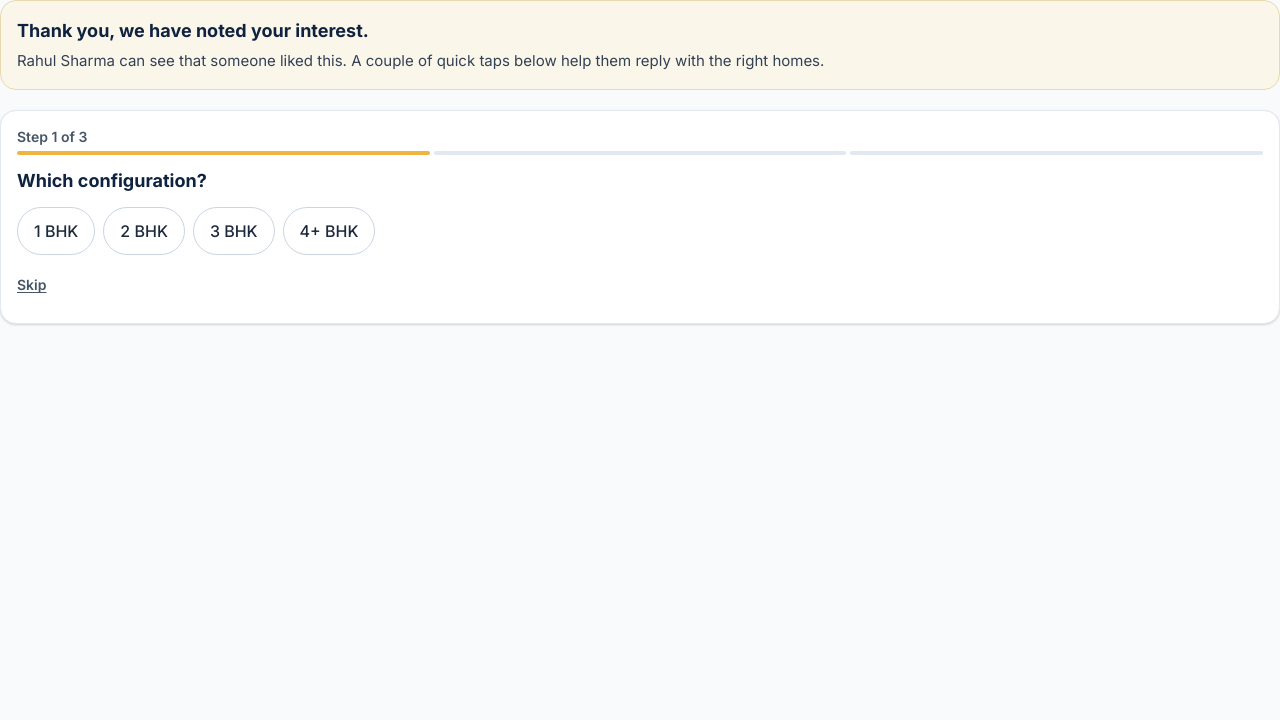
Test: InterestActions › skip moves on without sending anything, and a failed answer still moves on
Click the link "Skip".
click(32, 285)  # box [17, 276, 46, 293]
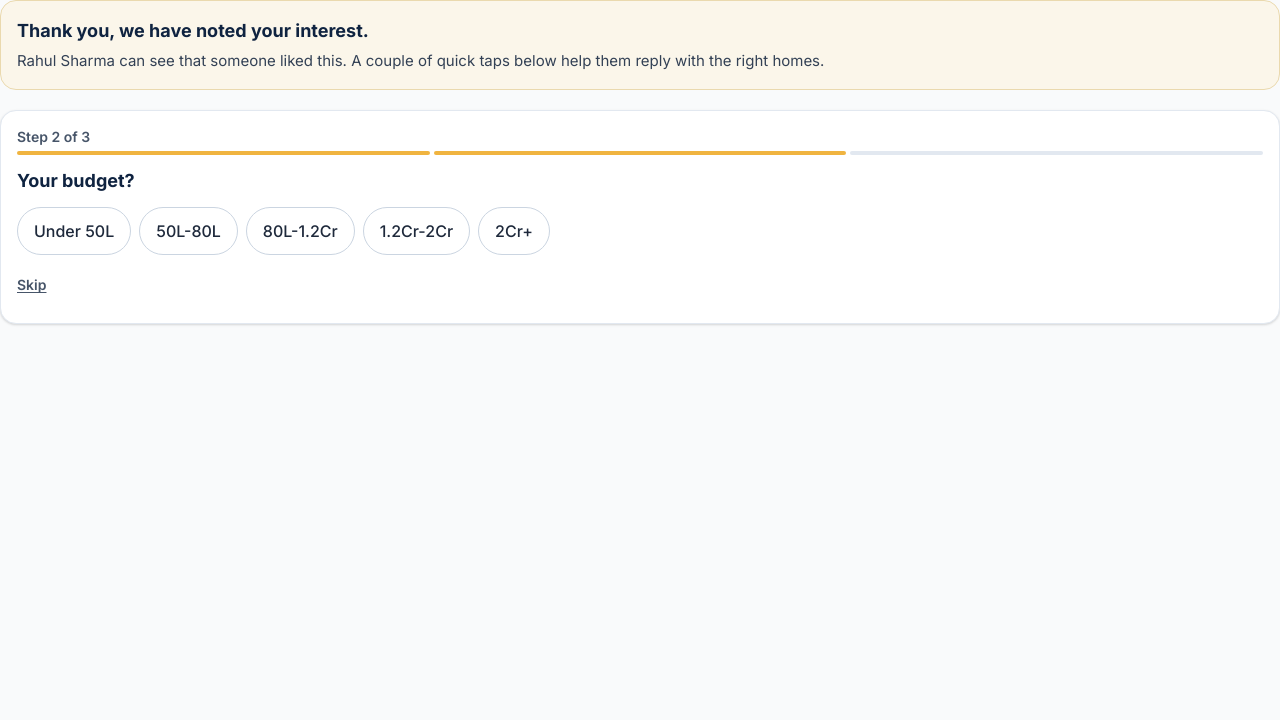
Expected: the heading "Your budget?" is shown, [17, 170, 135, 191]
Click the button "2Cr+".
click(514, 231)  # box [478, 207, 550, 255]
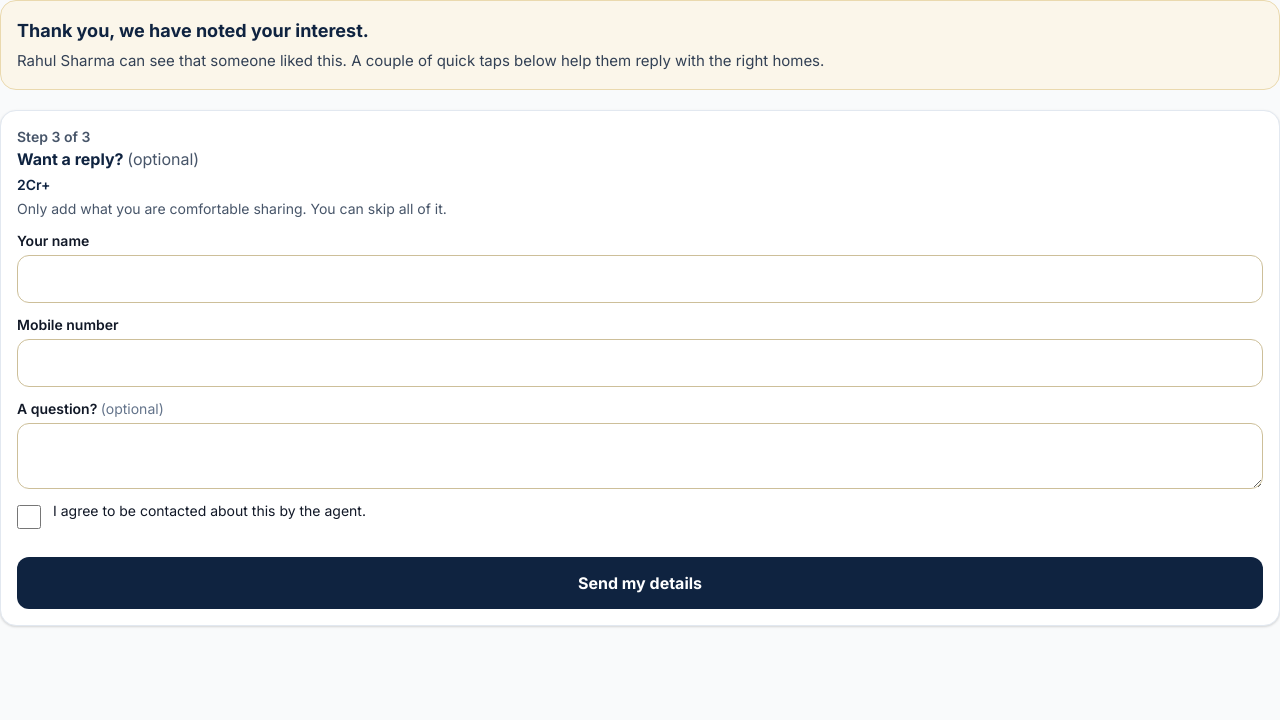
Expected: the field labelled "Mobile number" is shown, [17, 339, 1263, 387]
